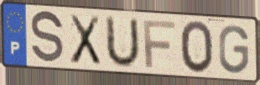F: (141, 19, 177, 70)
G: (217, 23, 251, 75)
O: (178, 19, 215, 76)
S: (29, 9, 66, 67)
U: (104, 14, 141, 70)
X: (68, 13, 103, 67)
